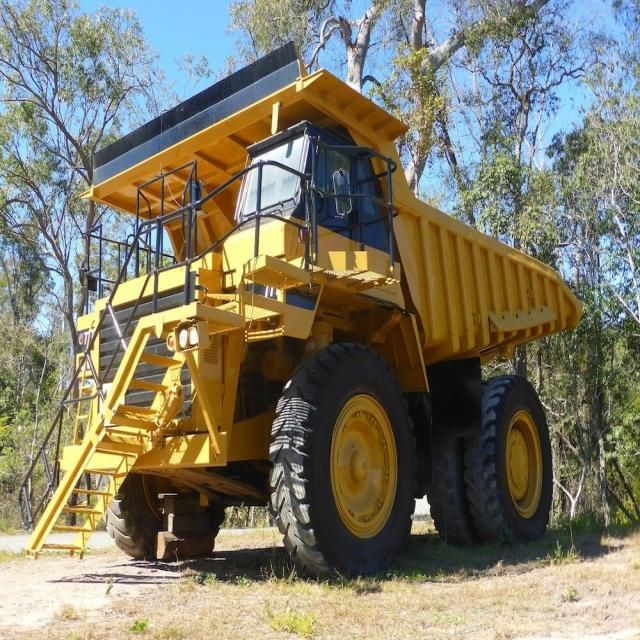dump_truck: (13, 45, 592, 592)
